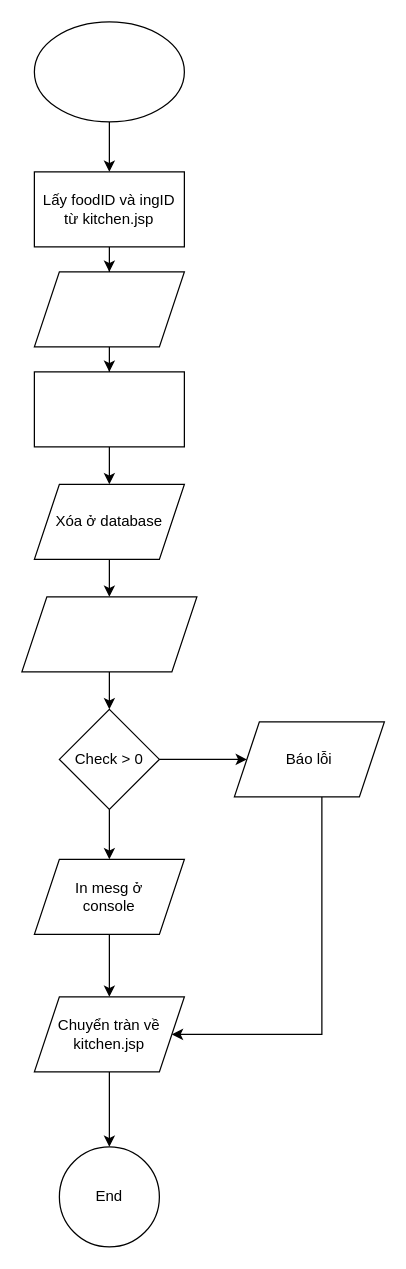
The diagram is 406 pixels wide and 1269 high, and some of its shapes have lost their labels. The shapes that lost their labels are listed below. From the top down, each one's box as (x1, y1, x2, y2) in pixels, then its label:
(33, 21, 184, 122): Start
(33, 271, 184, 347): Tạo đối tượng Recipe
(33, 371, 184, 447): Gọi delete từ RecipeDAO
(21, 596, 197, 672): Trả về số dòng đã thay đổi cho recipeController
